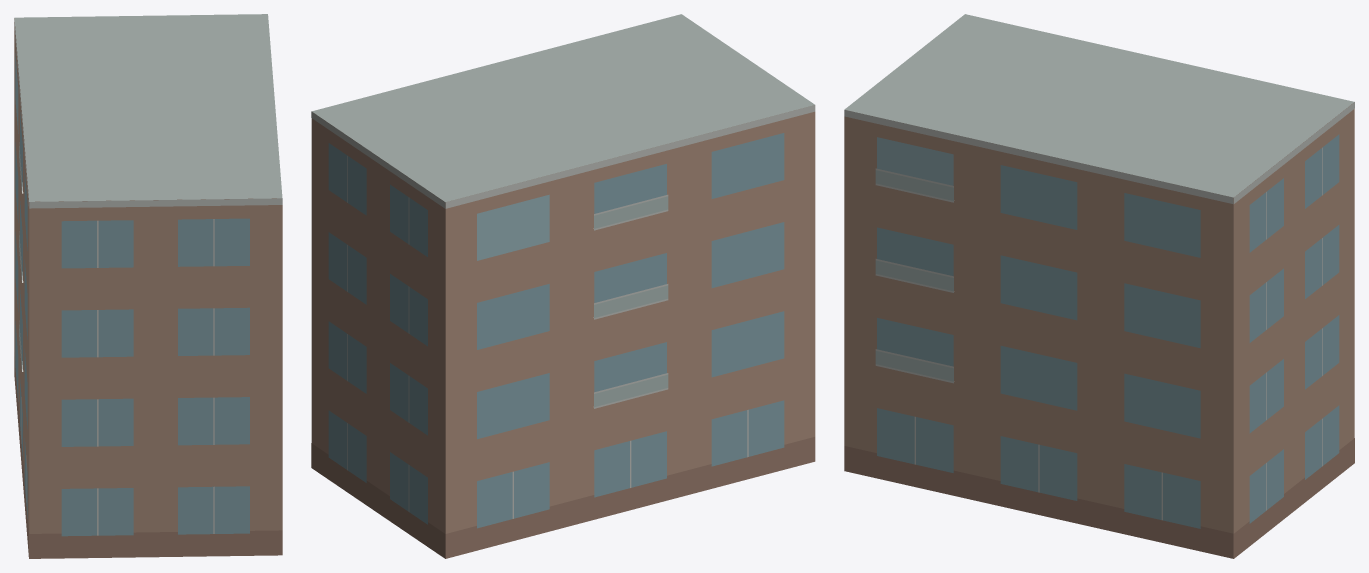
File: survey-upis-32658458.glb
3 renders of one model, left to right at view 1: azimuth 30°, elevation 25°; view 2: azimuth 150°, elevation 25°; view 3: azimuth 270°, elevation 25°, orthographic.
Parts seen in each view (by area): view 1: survey-upis-32658458.tmp; view 2: survey-upis-32658458.tmp; view 3: survey-upis-32658458.tmp.
Boxes of the visible parts, left/top/right/bottom form: survey-upis-32658458.tmp: left=14, top=14, right=282, bottom=558; survey-upis-32658458.tmp: left=311, top=14, right=815, bottom=558; survey-upis-32658458.tmp: left=844, top=14, right=1354, bottom=558.
Size of the model in its own units: 14.28 by 13.1 by 16.78.
